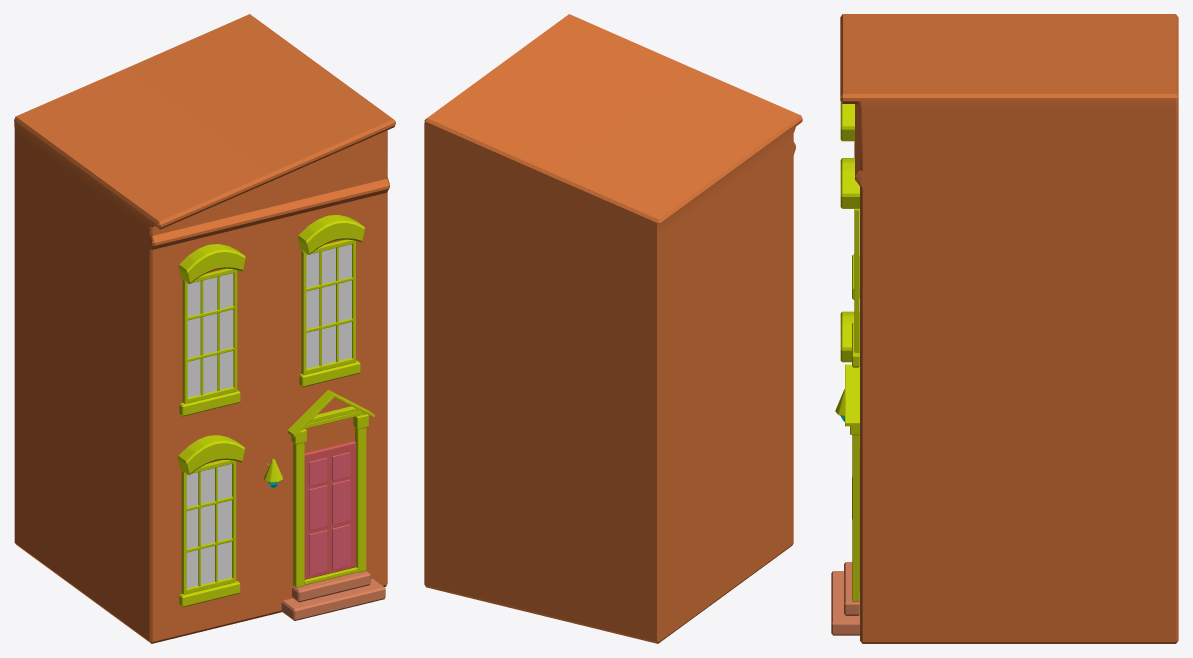
File: TimHouse1.fbx
The picture shows the model from 3 angles, left to right: view 1: azimuth 30°, elevation 25°; view 2: azimuth 150°, elevation 25°; view 3: azimuth 270°, elevation 25°; orthographic projection. The views are drawn at different scales.
Visible parts, largest first — view 1: polySurface202; view 2: polySurface202; view 3: polySurface202.
Boxes of the visible parts, left/top/right/bottom form: polySurface202: left=14, top=14, right=395, bottom=643; polySurface202: left=424, top=14, right=802, bottom=643; polySurface202: left=831, top=14, right=1178, bottom=643.
Bounding box in the file's own units: 507 × 962 × 551.
